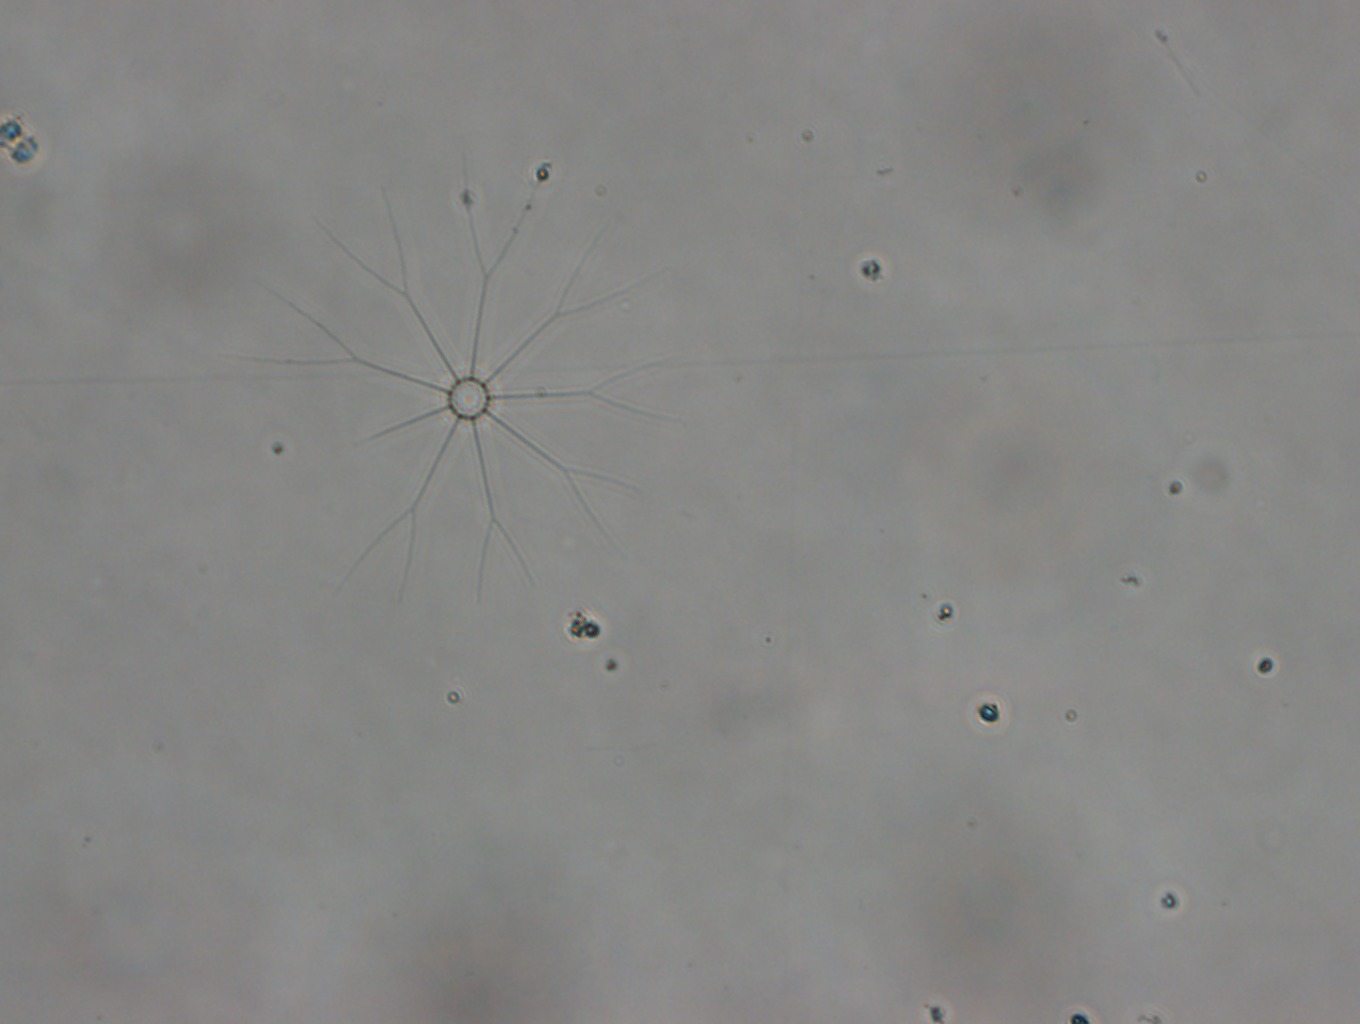bacteriastrum: (225, 148, 697, 618)
